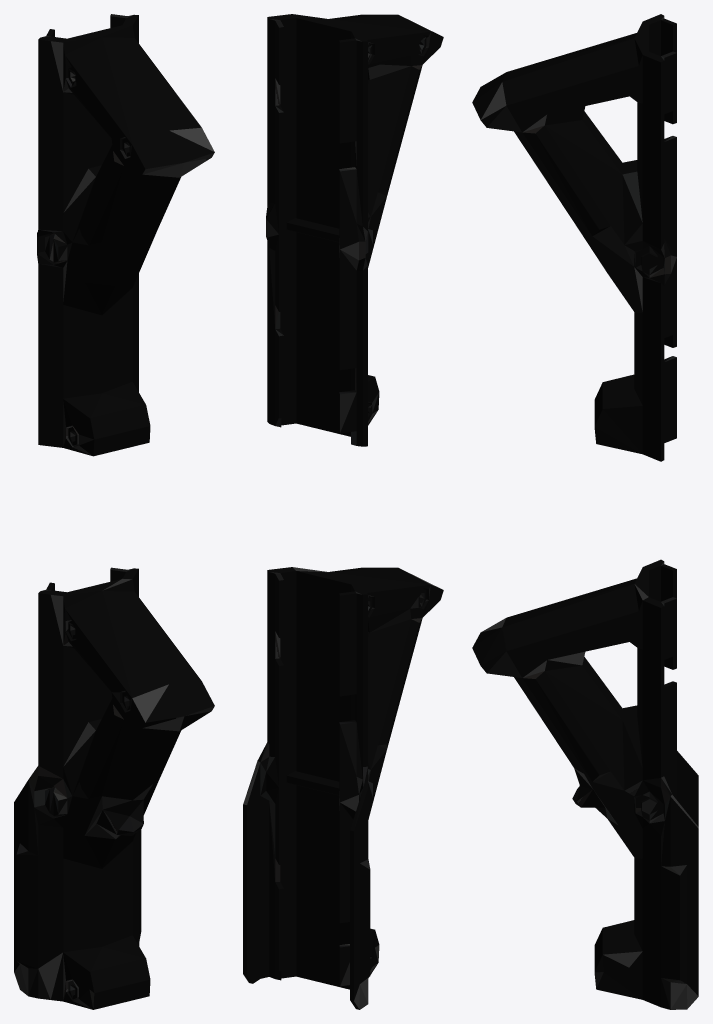
File: Grip_Angled.fbx
The picture shows the model from 3 angles, left to right: view 1: azimuth 30°, elevation 25°; view 2: azimuth 150°, elevation 25°; view 3: azimuth 270°, elevation 25°; orthographic projection.
Parts seen in each view (by area): view 1: asset_Grip_Angled.001; view 2: asset_Grip_Angled.001; view 3: asset_Grip_Angled.001.
Boxes of the visible parts, left/top/right/bottom form: asset_Grip_Angled.001: left=14, top=14, right=214, bottom=1009; asset_Grip_Angled.001: left=243, top=14, right=443, bottom=1009; asset_Grip_Angled.001: left=472, top=14, right=698, bottom=1009.
Bounding box in the file's own units: 0.00655 × 0.048 × 0.0104.
